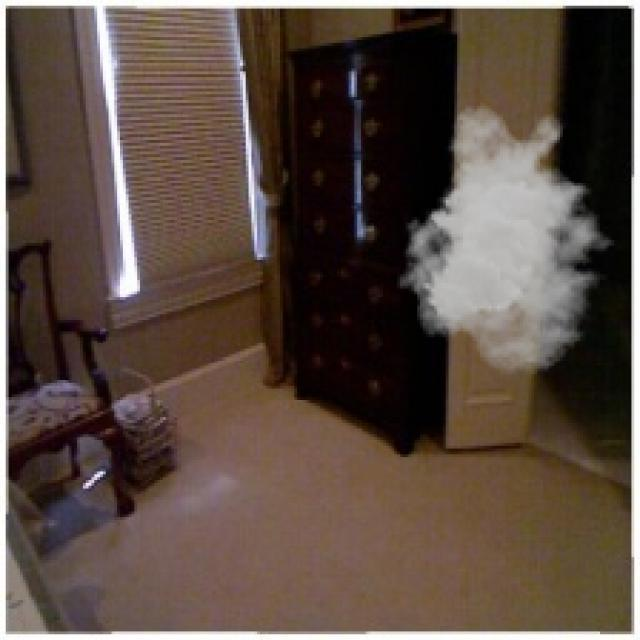Smoke: (397, 103, 626, 374)
